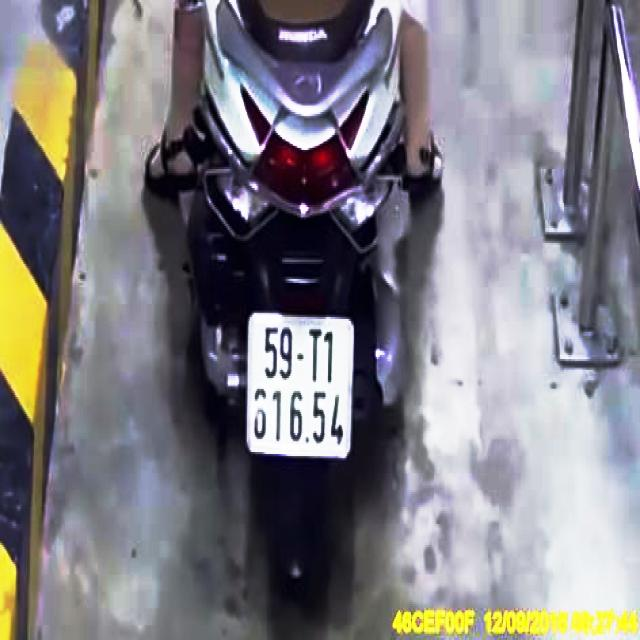license_plate: (250, 314, 355, 458)
